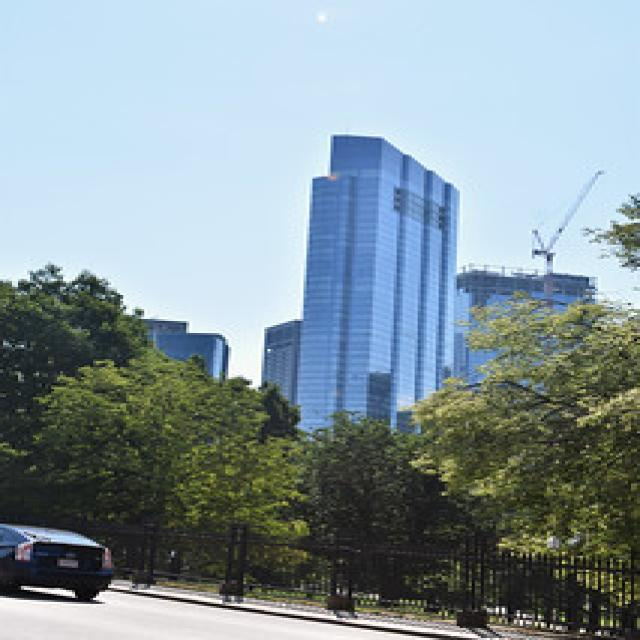building: (285, 128, 460, 466)
